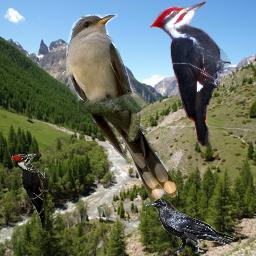Crow: (145, 198, 239, 255)
Cuckoo: (66, 14, 178, 200)
Woodpecker: (150, 1, 231, 147), (12, 152, 50, 234)
